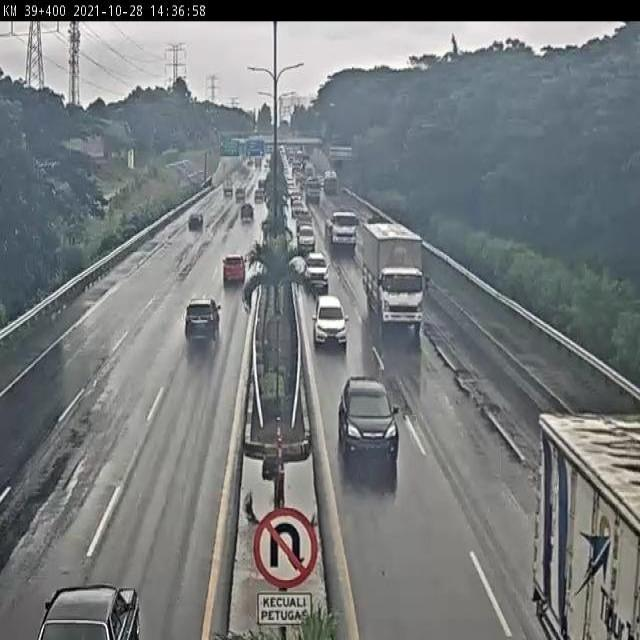big truck: (368, 233, 436, 335), (328, 207, 363, 253)
car: (345, 362, 405, 494), (52, 562, 133, 640), (182, 296, 219, 359), (316, 290, 345, 362), (228, 247, 252, 289), (305, 249, 331, 284), (298, 223, 317, 257)
